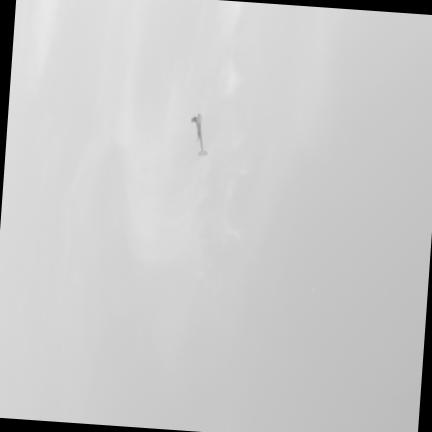Shahed: (190, 114, 206, 155)
